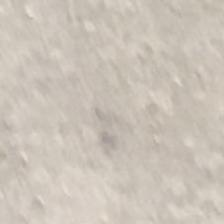Non_Crack: (32, 30, 224, 224)
